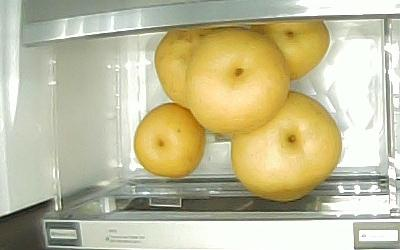pear: (230, 90, 341, 200), (186, 27, 291, 133), (133, 103, 204, 179), (250, 20, 330, 80), (154, 29, 205, 108)
